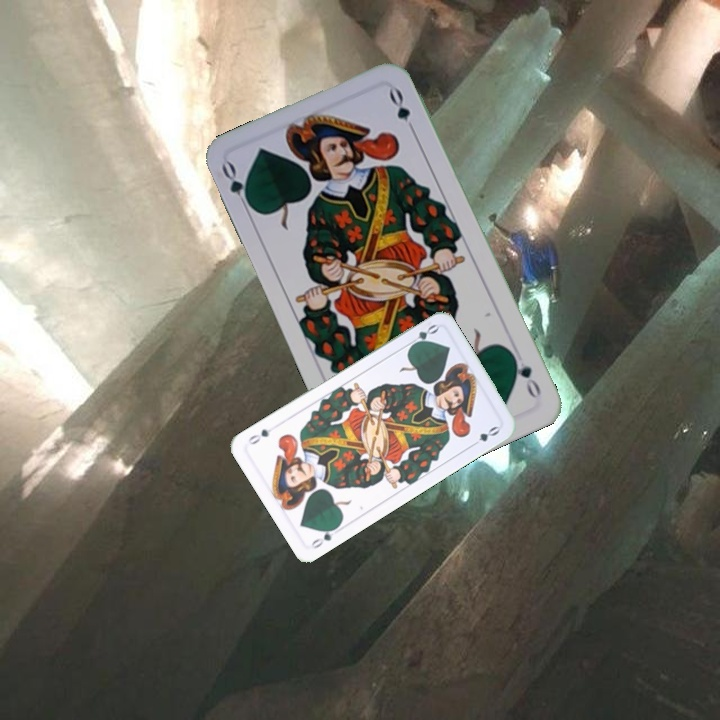GO: (217, 158, 256, 215), (507, 348, 544, 402), (403, 320, 441, 351), (307, 521, 342, 551)
